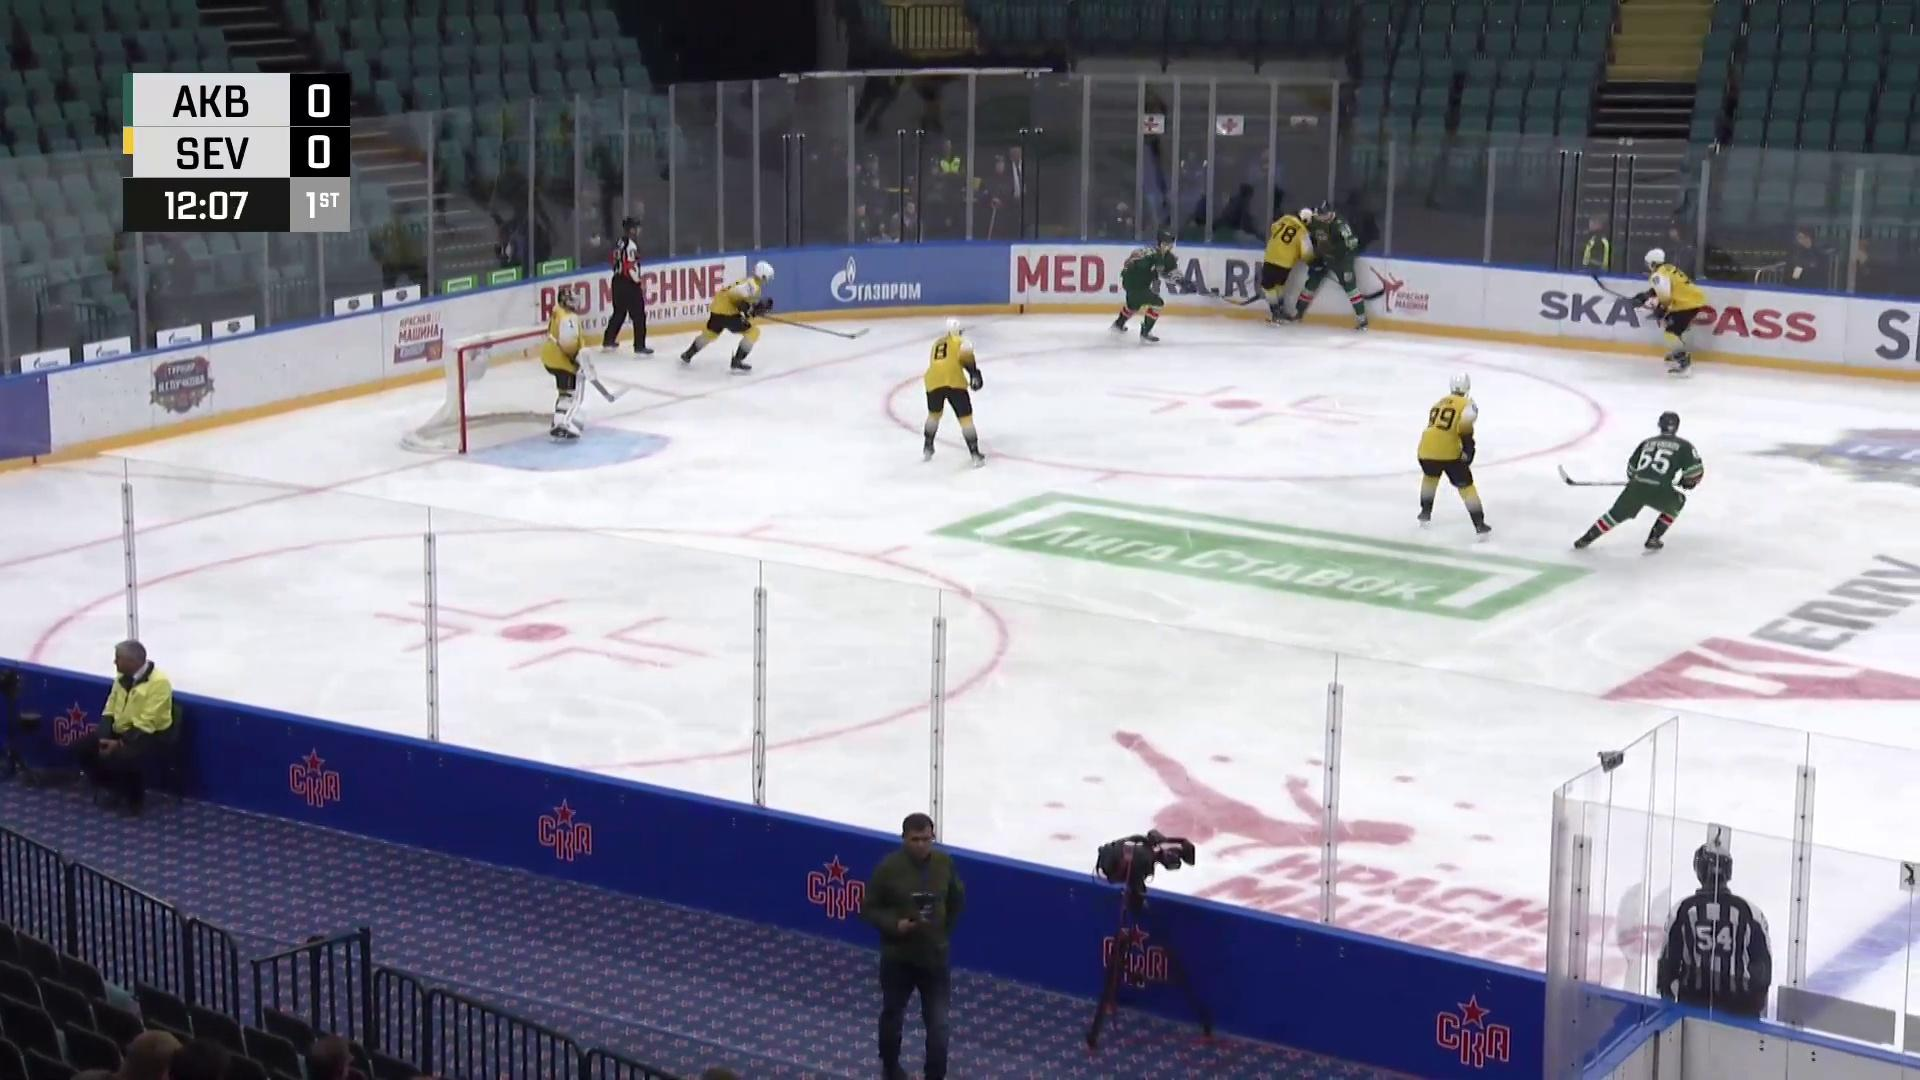ball: (1263, 318, 1271, 323)
